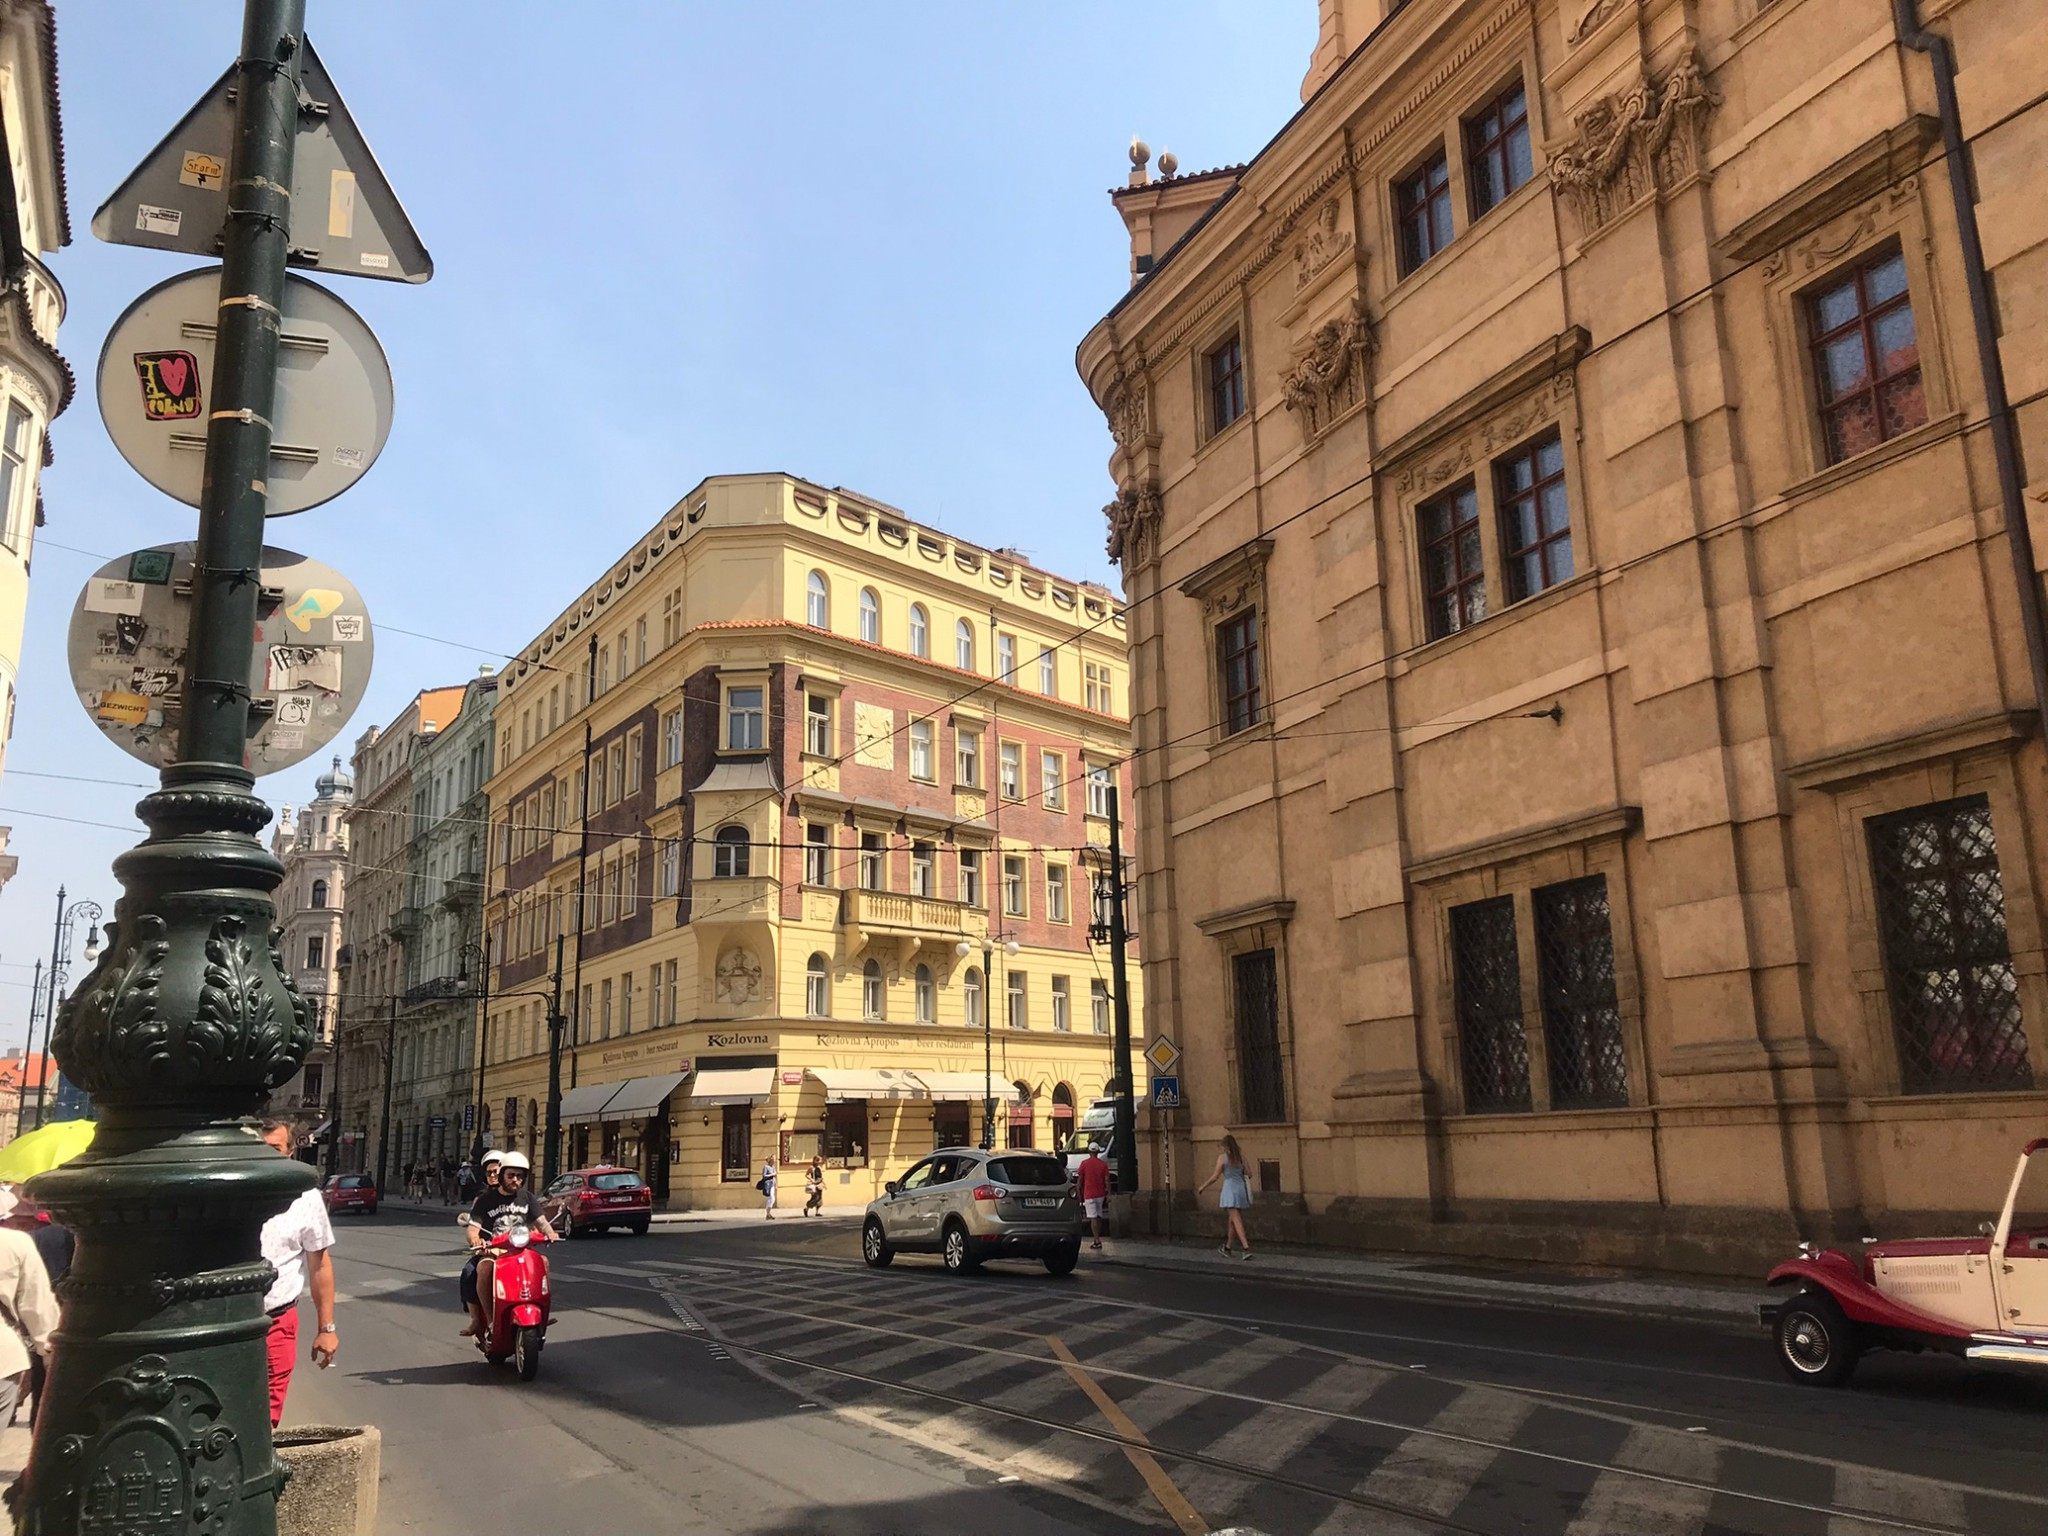people: (252, 1108, 340, 1437), (1207, 1140, 1257, 1260), (1078, 1140, 1116, 1252), (499, 1149, 537, 1240), (757, 1160, 781, 1216), (807, 1152, 825, 1216), (478, 1152, 504, 1187)
